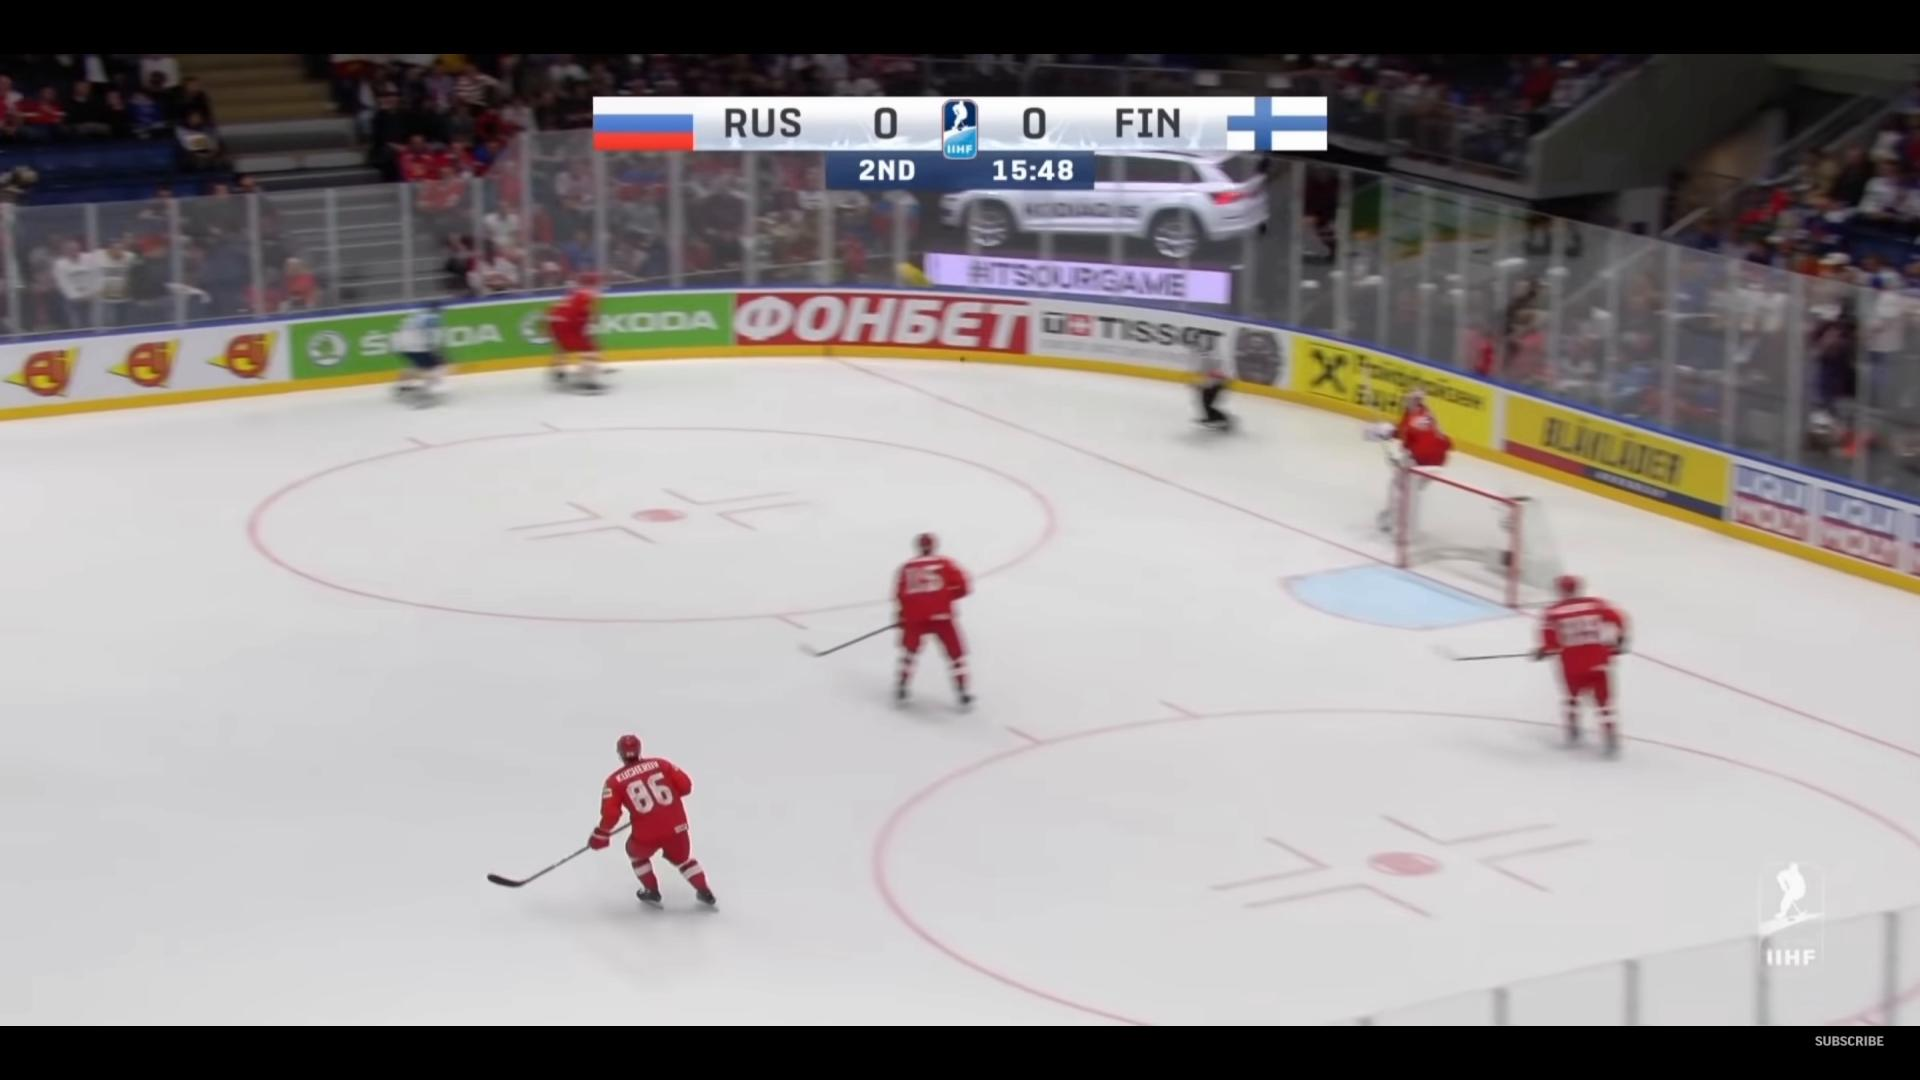puck: (959, 355, 965, 361)
